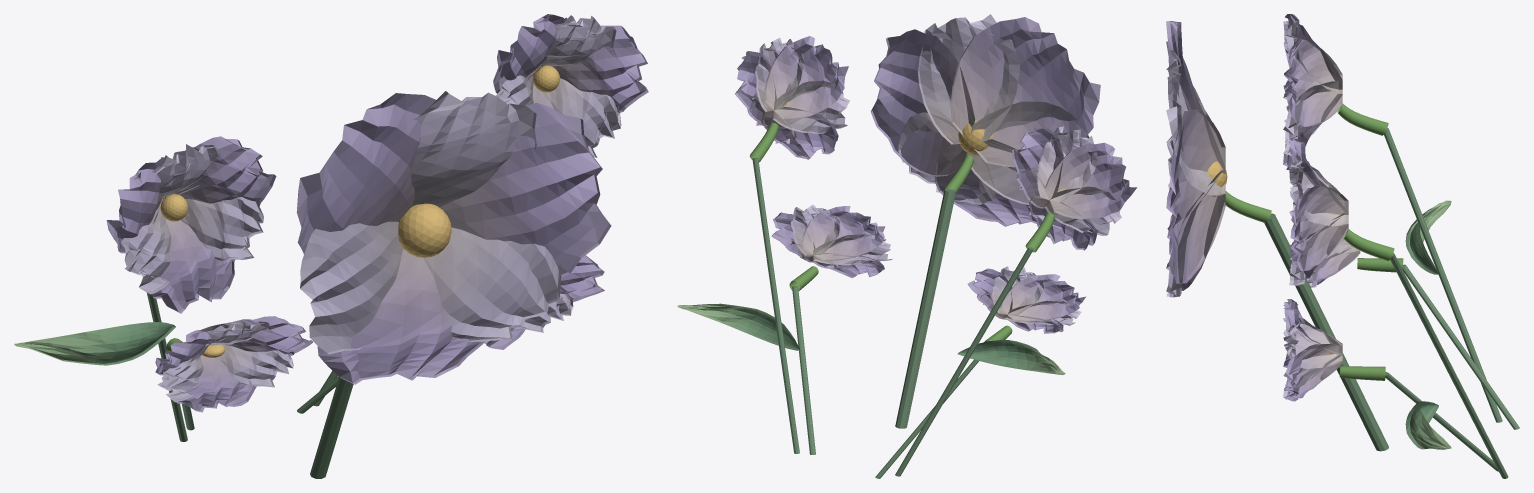
The model's file is iris.glb.
3 renders of one model, left to right at view 1: azimuth 30°, elevation 25°; view 2: azimuth 150°, elevation 25°; view 3: azimuth 270°, elevation 25°, orthographic. The views are drawn at different scales.
Parts seen in each view (by area): view 1: PETALO_000, PETALO_002, PETALO_005, PETALO_004, PETALO_001, PETALO_003, PETALO_010, FOGLIA_RAMOSCELLO_0, PETALO_012, PETALO_006, PETALO_011, PETALO_017 (+17 smaller); view 2: PETALO_002, PETALO_000, PETALO_001, PETALO_008, PETALO_014, RAMO_0, PETALO_003, PETALO_026, PETALO_004, PETALO_020, FOGLIA_RAMOSCELLO_1, PETALO_006 (+24 smaller); view 3: PETALO_000, PETALO_006, PETALO_012, RAMO_0, RAMO_1, PETALO_001, RAMO_2, PETALO_002, PETALO_024, PETALO_025, FOGLIA_RAMOSCELLO_1, RAMO_3 (+19 smaller).
Boxes of the visible parts, x1,y1,x2,y2 form: PETALO_000: (439, 102, 611, 277); PETALO_002: (296, 93, 435, 253); PETALO_005: (424, 227, 561, 342); PETALO_004: (317, 248, 484, 384); PETALO_001: (411, 91, 536, 207); PETALO_003: (300, 221, 403, 354); PETALO_010: (151, 219, 234, 313); FOGLIA_RAMOSCELLO_0: (14, 322, 175, 365); PETALO_012: (553, 25, 648, 112); PETALO_006: (174, 136, 276, 206); PETALO_011: (181, 197, 263, 263); PETALO_017: (543, 78, 621, 157); PETALO_002: (950, 17, 1100, 167); PETALO_000: (870, 29, 975, 176); PETALO_001: (917, 14, 1019, 144); PETALO_008: (1045, 142, 1137, 219); PETALO_014: (764, 36, 848, 119); RAMO_0: (895, 189, 955, 428); PETALO_003: (966, 101, 1089, 204); PETALO_026: (802, 206, 885, 260); PETALO_004: (935, 139, 1036, 226); PETALO_020: (1000, 274, 1085, 321); FOGLIA_RAMOSCELLO_1: (677, 303, 799, 350); PETALO_006: (1012, 127, 1063, 208); PETALO_000: (1166, 109, 1225, 283); PETALO_006: (1283, 39, 1342, 126); PETALO_012: (1289, 185, 1348, 270); RAMO_0: (1264, 213, 1388, 451); RAMO_1: (1384, 128, 1502, 422); PETALO_001: (1166, 50, 1225, 195); RAMO_2: (1390, 253, 1508, 478); PETALO_002: (1166, 21, 1225, 169); PETALO_024: (1283, 344, 1342, 401); PETALO_025: (1283, 323, 1342, 368); FOGLIA_RAMOSCELLO_1: (1405, 401, 1451, 449); RAMO_3: (1403, 264, 1519, 429).
Bounding box in the file's own units: 1.81 × 1.54 × 1.21.
